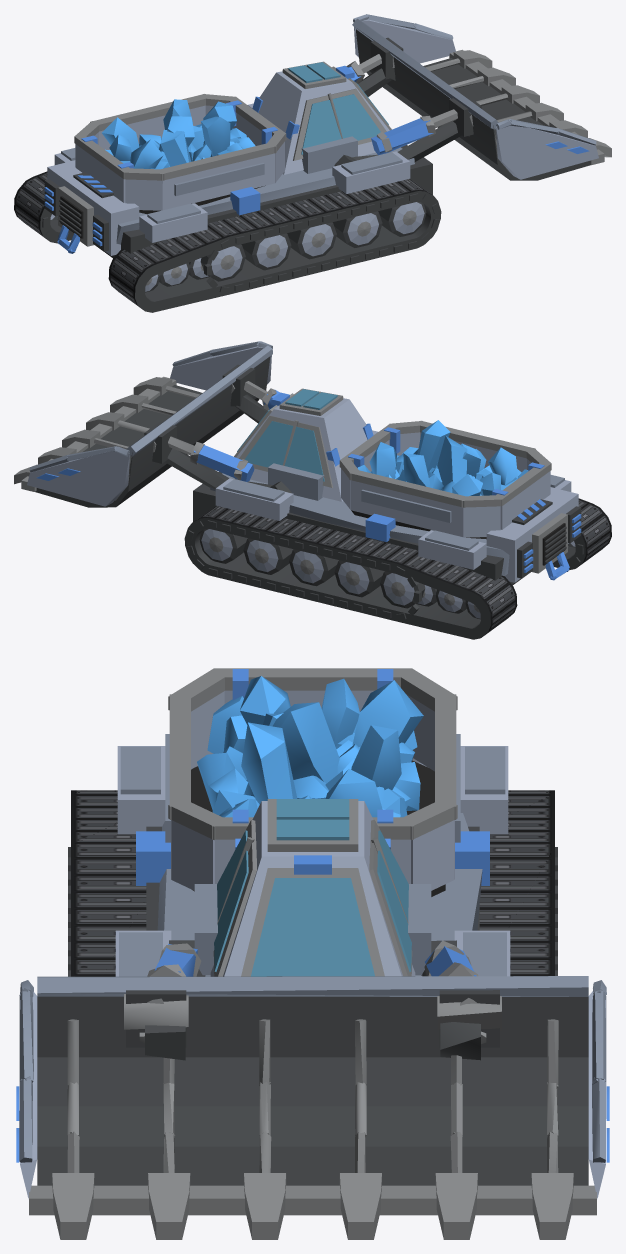
File: harvester.glb
3 renders of one model, top to bottom at view 1: azimuth 30°, elevation 25°; view 2: azimuth 150°, elevation 25°; view 3: azimuth 270°, elevation 25°, orthographic. The views are drawn at different scales.
Parts seen in each view (by area): view 1: Hull, TrackR, Load, TrackL, WheelT11, WheelT10, WheelT9, WheelT8, WheelT12, WheelT14; view 2: Hull, TrackL, Load, TrackR, WheelT3, WheelT1, WheelT2, WheelT0, WheelT4, WheelT6; view 3: Hull, Load, TrackR, TrackL.
Boxes of the visible parts, box(x1,y1,x2,y2) form: Hull: box(42, 14, 611, 292); TrackR: box(108, 179, 441, 312); Load: box(102, 99, 255, 169); TrackL: box(14, 171, 72, 243); WheelT11: box(241, 233, 291, 270); WheelT10: box(287, 222, 336, 259); WheelT9: box(332, 211, 382, 247); WheelT8: box(378, 201, 426, 236); WheelT12: box(200, 244, 245, 281); WheelT14: box(159, 262, 189, 286); Hull: box(14, 341, 583, 619); TrackL: box(184, 506, 517, 639); Load: box(357, 420, 528, 496); TrackR: box(553, 498, 611, 570); WheelT3: box(334, 560, 384, 597); WheelT1: box(243, 538, 293, 574); WheelT2: box(289, 549, 338, 586); WheelT0: box(199, 528, 247, 563); WheelT4: box(380, 571, 425, 608); WheelT6: box(436, 589, 466, 613); Hull: box(16, 668, 609, 1239); Load: box(197, 676, 423, 817); TrackR: box(71, 790, 146, 976); TrackL: box(479, 790, 554, 976).
Bounding box in the file's own units: 9.69 × 2.74 × 5.12.
Materials: 9 (1 with a texture image).
